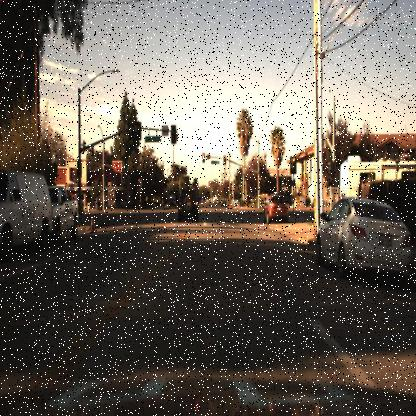car: (311, 191, 414, 283), (0, 169, 53, 257), (46, 179, 90, 243), (49, 179, 82, 248), (170, 180, 204, 225), (258, 189, 292, 227), (262, 194, 292, 224), (176, 188, 200, 220), (167, 189, 178, 212)
trafficLight-Red: (288, 150, 300, 179), (288, 152, 298, 179), (133, 174, 144, 190), (198, 149, 208, 165), (220, 154, 229, 166), (256, 173, 263, 187)
